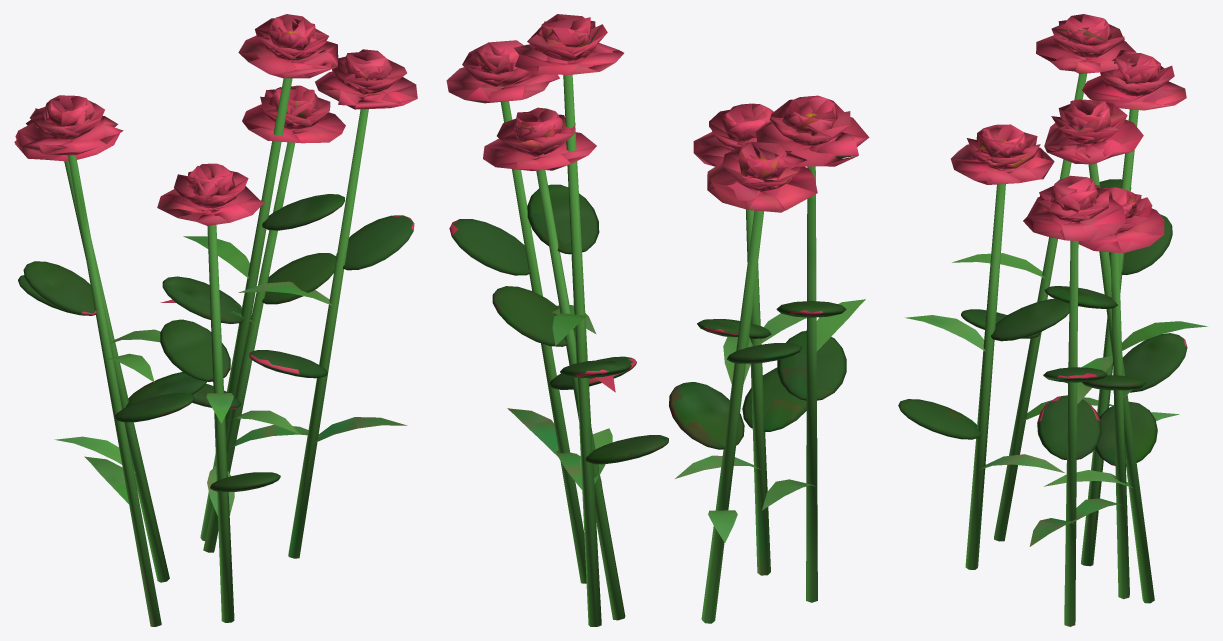
The model's file is crop_zinnia.glb.
3 renders of one model, left to right at view 1: azimuth 30°, elevation 25°; view 2: azimuth 150°, elevation 25°; view 3: azimuth 270°, elevation 25°, orthographic. The views are drawn at different scales.
Visible parts, largest first — view 1: crop_zinnia, fruit; view 2: crop_zinnia, fruit; view 3: crop_zinnia, fruit.
Part boxes in pixels (x1,y1,x2,y2): crop_zinnia: [18, 31, 414, 626]; fruit: [14, 14, 417, 225]; crop_zinnia: [449, 46, 865, 626]; fruit: [446, 14, 869, 212]; crop_zinnia: [898, 29, 1207, 626]; fruit: [951, 14, 1186, 253].
Bounding box in the file's own units: 0.244 × 0.3202 × 0.1722.
1 material, 1 textured.
